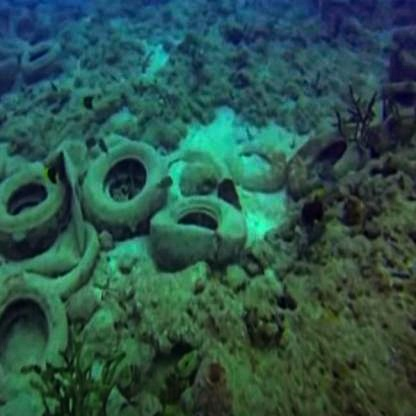tire: (70, 128, 172, 231), (154, 178, 250, 269), (1, 274, 66, 408), (278, 122, 361, 216), (1, 153, 75, 249)
